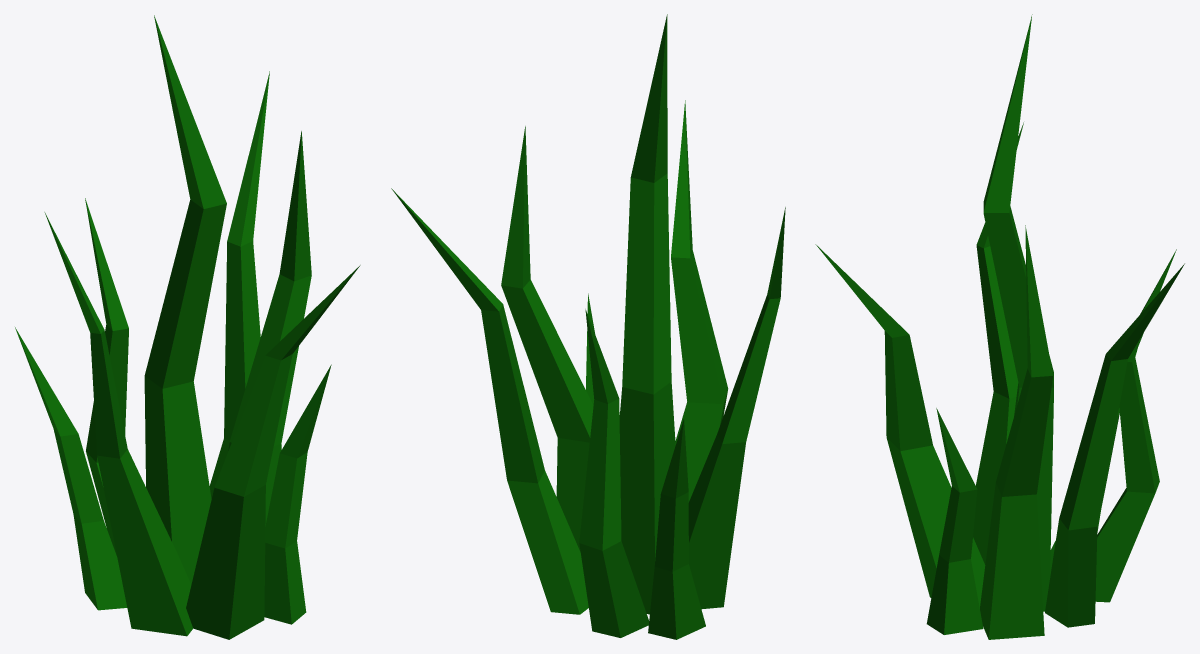
File: Grass2.fbx
3 renders of one model, left to right at view 1: azimuth 30°, elevation 25°; view 2: azimuth 150°, elevation 25°; view 3: azimuth 270°, elevation 25°, orthographic. The views are drawn at different scales.
Visible parts, largest first — view 1: Cube; view 2: Cube; view 3: Cube.
Part boxes in pixels (<box>): Cube: <box>15,15,360,639</box>; Cube: <box>391,14,785,639</box>; Cube: <box>815,14,1184,639</box>.
Size of the model in its own units: 13.04 by 23.85 by 14.03.
